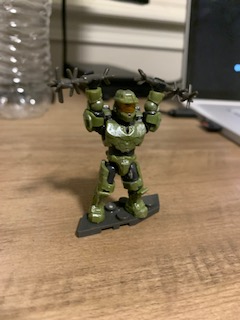chief: (81, 70, 165, 223)
spartan: (79, 68, 163, 221)
up: (79, 70, 167, 156)
